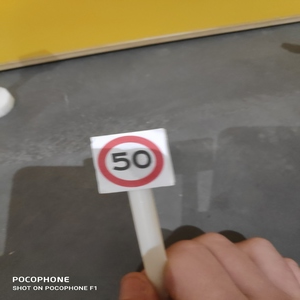50-bord: (97, 135, 166, 189)
